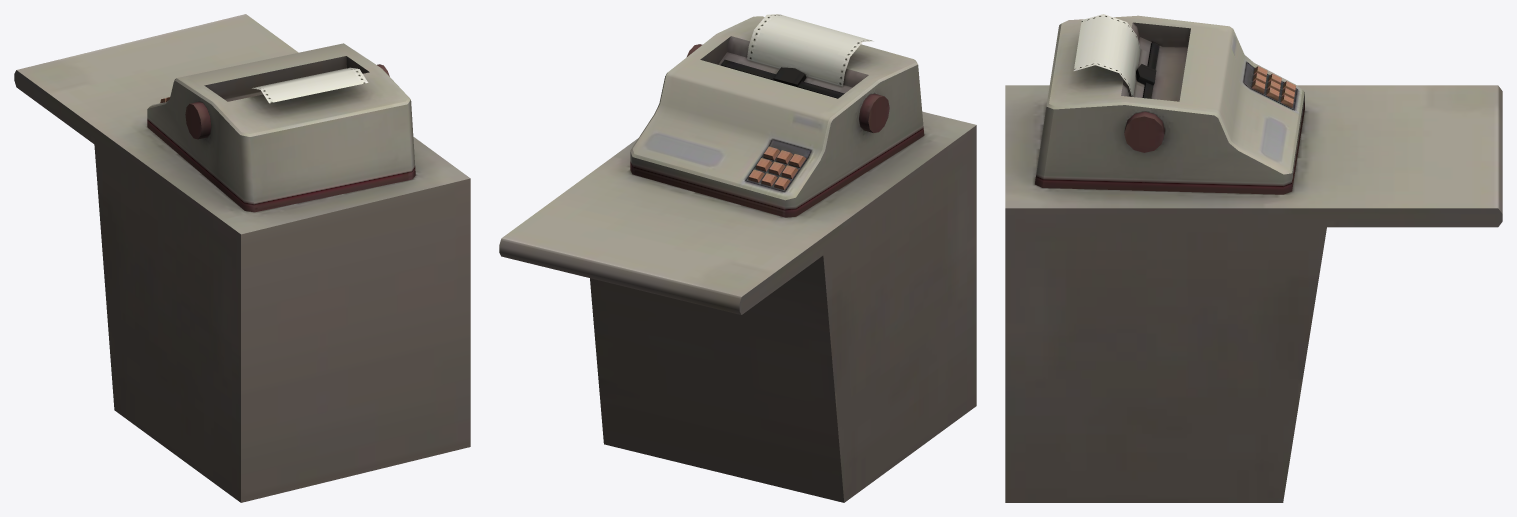
3 views of the same model, side by side, from view 1: azimuth 30°, elevation 25°; view 2: azimuth 150°, elevation 25°; view 3: azimuth 270°, elevation 25° (orthographic). The views are drawn at different scales.
Visible parts, largest first — view 1: body0_model0_lod0_mesh0; view 2: body0_model0_lod0_mesh0; view 3: body0_model0_lod0_mesh0.
Boxes of the visible parts, bbox=[...] form: body0_model0_lod0_mesh0: bbox=[14, 14, 470, 502]; body0_model0_lod0_mesh0: bbox=[499, 14, 976, 502]; body0_model0_lod0_mesh0: bbox=[1005, 14, 1502, 502].
Size of the model in its own units: 35.76 by 54.3 by 61.16.
1 material, 1 textured.
